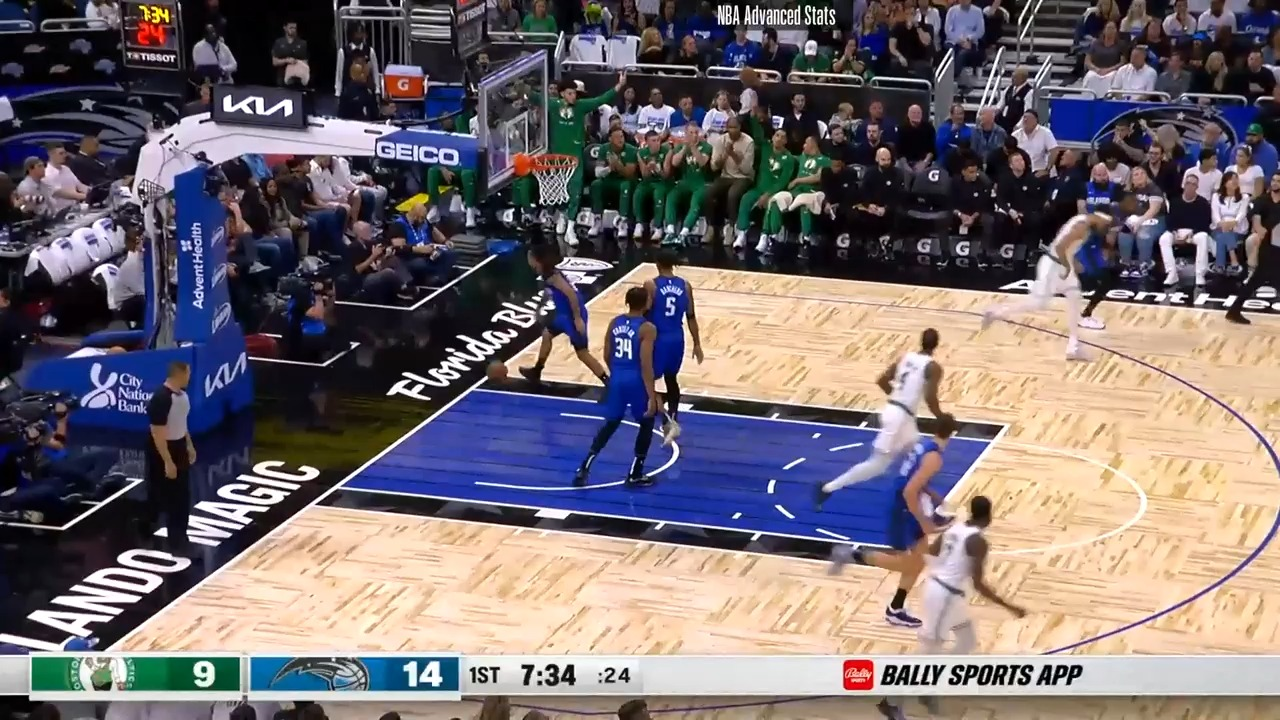net: (514, 147, 578, 205)
player: (820, 408, 966, 626), (812, 324, 961, 516), (974, 202, 1114, 364), (898, 496, 1032, 658), (572, 283, 676, 488), (523, 243, 613, 391), (644, 253, 708, 444)
referee: (140, 360, 199, 559), (1228, 174, 1280, 329)
